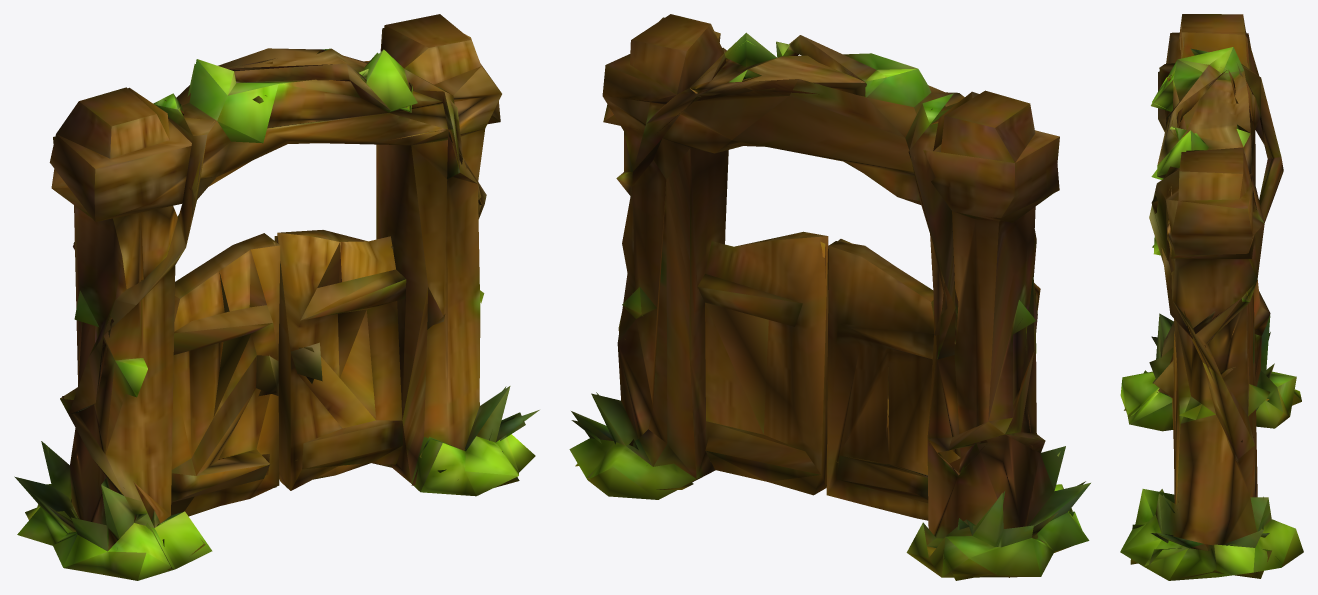
The model's file is lg-swamp-gate.glb.
3 views of the same model, side by side, from view 1: azimuth 30°, elevation 25°; view 2: azimuth 150°, elevation 25°; view 3: azimuth 270°, elevation 25° (orthographic). The views are drawn at different scales.
Parts seen in each view (by area): view 1: geometry_0; view 2: geometry_0; view 3: geometry_0.
Boxes of the visible parts, x1,y1,x2,y2 form: geometry_0: (14, 14, 539, 580); geometry_0: (569, 14, 1090, 580); geometry_0: (1120, 14, 1303, 580).
Bounding box in the file's own units: 1 × 0.9177 × 0.3752.
1 material, 1 textured.
